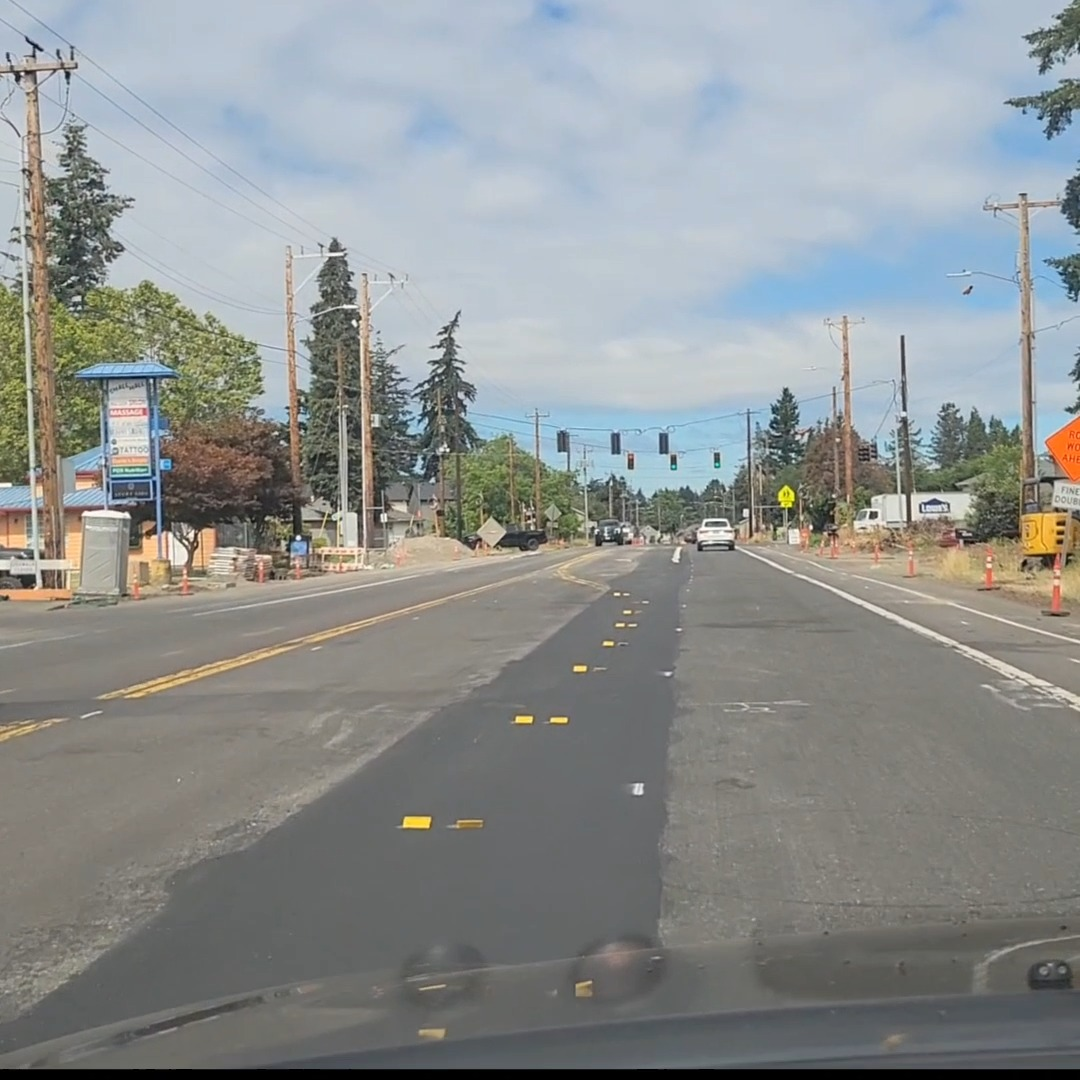car: (466, 522, 549, 551), (695, 518, 737, 550), (592, 518, 633, 546), (683, 528, 697, 543)
crosswalk-sign: (777, 484, 795, 508)
delineator: (1039, 554, 1070, 616), (975, 548, 998, 592), (904, 542, 918, 577), (179, 567, 192, 595), (137, 561, 150, 585), (393, 540, 405, 564), (871, 536, 881, 564), (131, 573, 141, 599), (828, 532, 838, 558), (292, 556, 303, 579), (818, 531, 827, 555), (257, 558, 265, 582), (955, 531, 965, 549), (452, 544, 462, 560), (471, 541, 479, 556)
